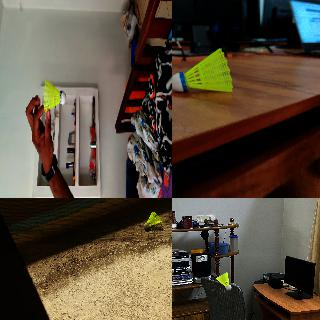shuttlecock: (172, 48, 233, 93), (44, 79, 66, 111), (144, 212, 160, 228), (216, 272, 230, 290)
